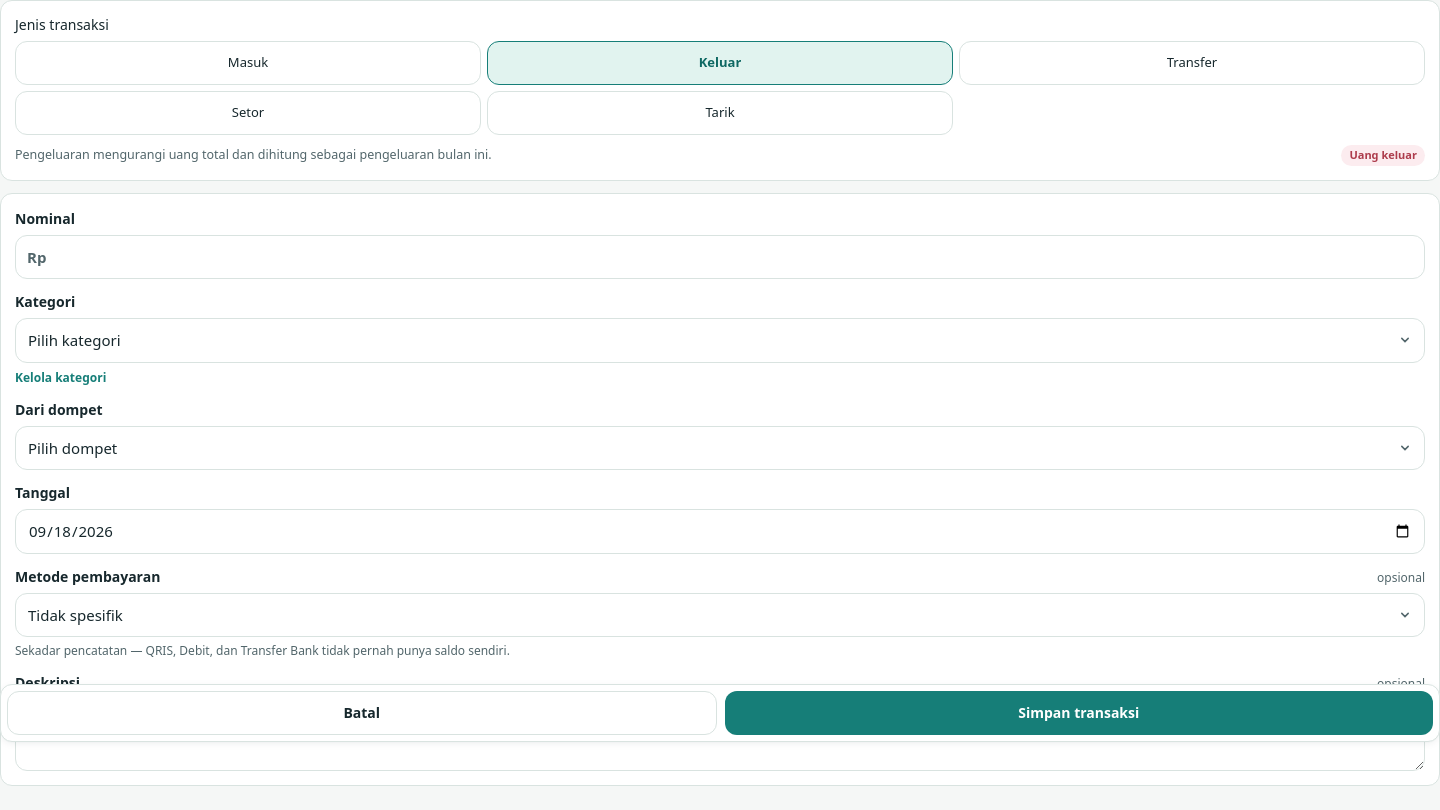
Scenario: Transactions Phase 2C UX › keeps all five kinds pickable in one block that still explains the chosen one
Check: the element "Jenis transaksi" is shown, box [0,0,1439,180]
Check: the text "mengurangi uang total" is shown, box [15,146,492,163]
Click the button "Transfer".
click(1192, 63)  # box [959,41,1425,85]
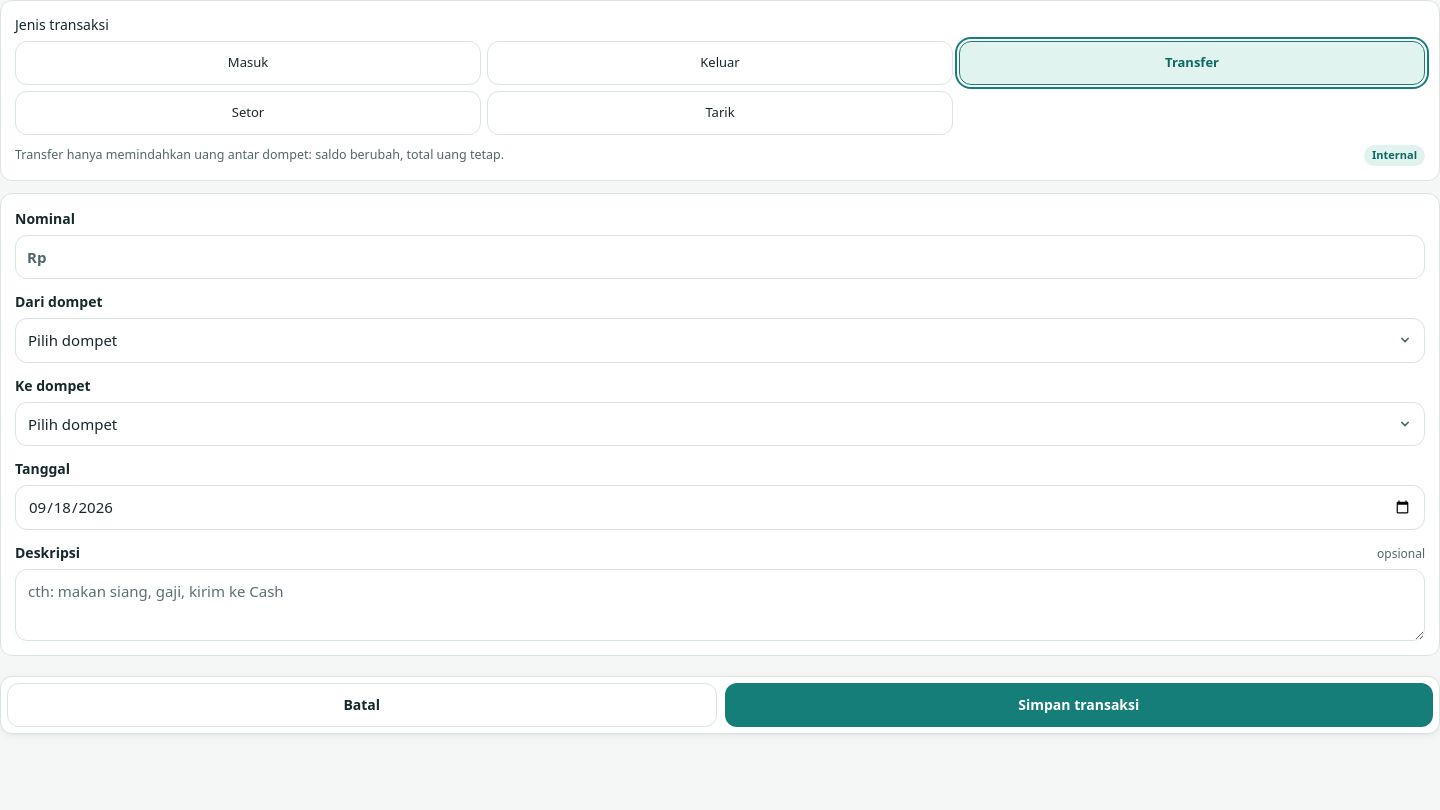
Check: the text "memindahkan uang antar dompet" is shown, box [15,146,504,163]
